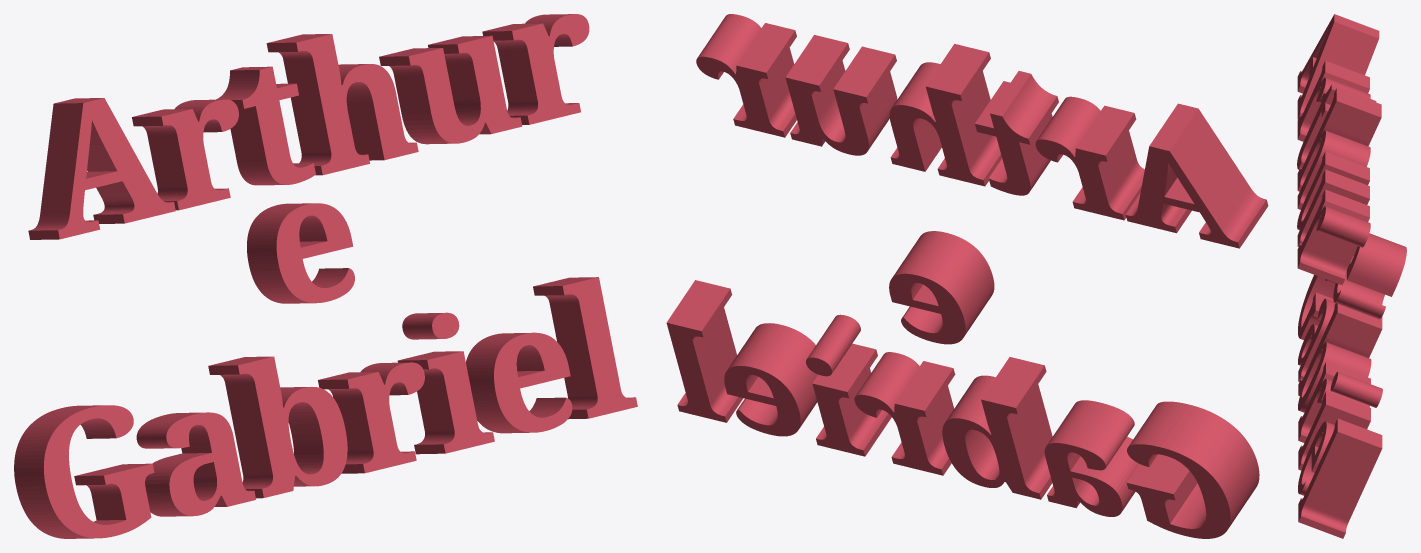
The model's file is AeG.glb.
3 views of the same model, side by side, from view 1: azimuth 30°, elevation 25°; view 2: azimuth 150°, elevation 25°; view 3: azimuth 270°, elevation 25° (orthographic). The views are drawn at different scales.
Parts seen in each view (by area): view 1: Mesh_Mesh_head_geo.001_lambert2SG.001; view 2: Mesh_Mesh_head_geo.001_lambert2SG.001; view 3: Mesh_Mesh_head_geo.001_lambert2SG.001.
Boxes of the visible parts, bbox=[...] form: Mesh_Mesh_head_geo.001_lambert2SG.001: bbox=[14, 14, 637, 538]; Mesh_Mesh_head_geo.001_lambert2SG.001: bbox=[666, 14, 1268, 538]; Mesh_Mesh_head_geo.001_lambert2SG.001: bbox=[1297, 14, 1406, 538].
Bounding box in the file's own units: 0.104 × 0.0765 × 0.0226.
